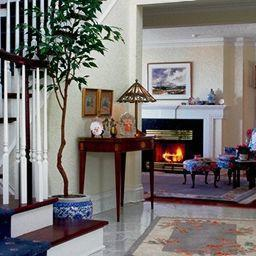Escaleras: (5, 195, 111, 253)
Matera: (37, 9, 118, 220)
